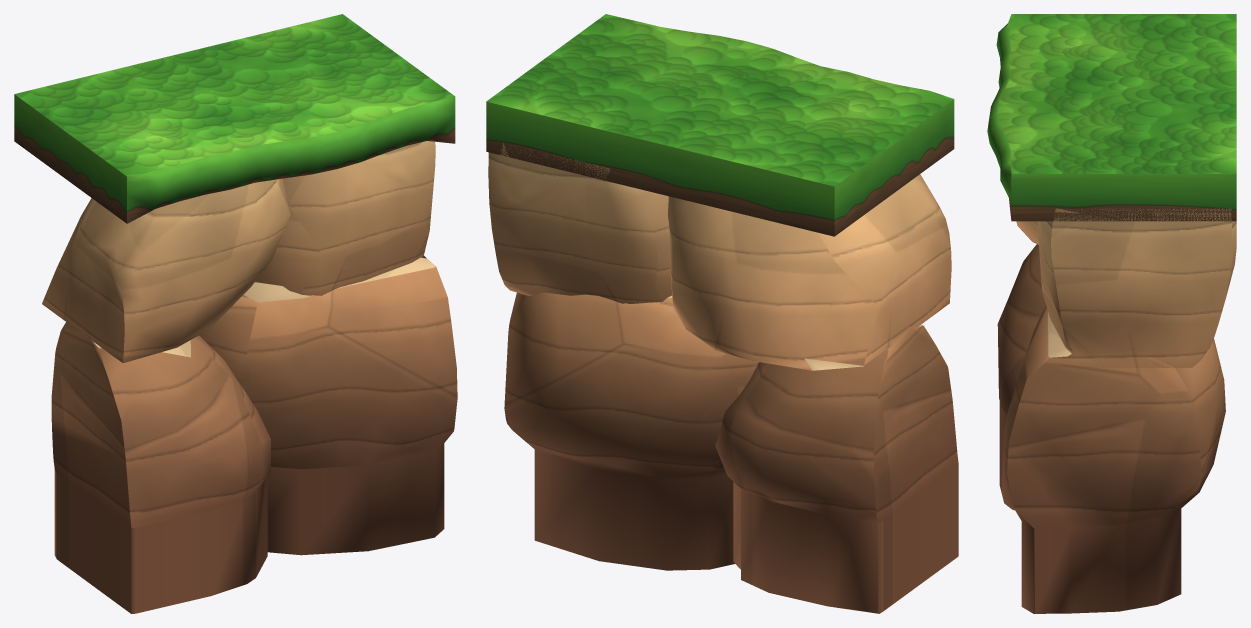
Rendered from Cliff_Straight_01.fbx.
3 views of the same model, side by side, from view 1: azimuth 30°, elevation 25°; view 2: azimuth 150°, elevation 25°; view 3: azimuth 270°, elevation 25° (orthographic). The views are drawn at different scales.
Visible parts, largest first — view 1: Cliff_Straight_01; view 2: Cliff_Straight_01; view 3: Cliff_Straight_01.
Boxes of the visible parts, x1,y1,x2,y2 form: Cliff_Straight_01: (14,14,457,613); Cliff_Straight_01: (486,14,958,613); Cliff_Straight_01: (987,14,1236,613).
Size of the model in its own units: 4 by 5.13 by 2.63.
Materials: 1 (1 with a texture image).
